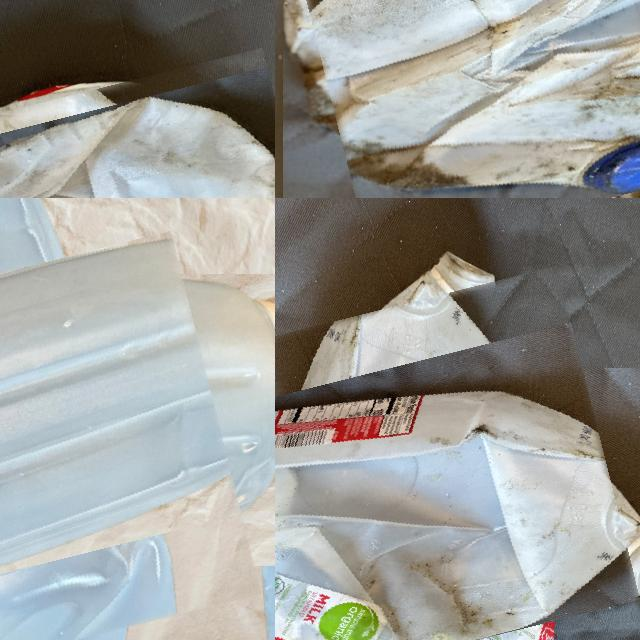milk-jug: (275, 287, 632, 640), (0, 198, 236, 640), (306, 0, 640, 198), (0, 71, 275, 198)
